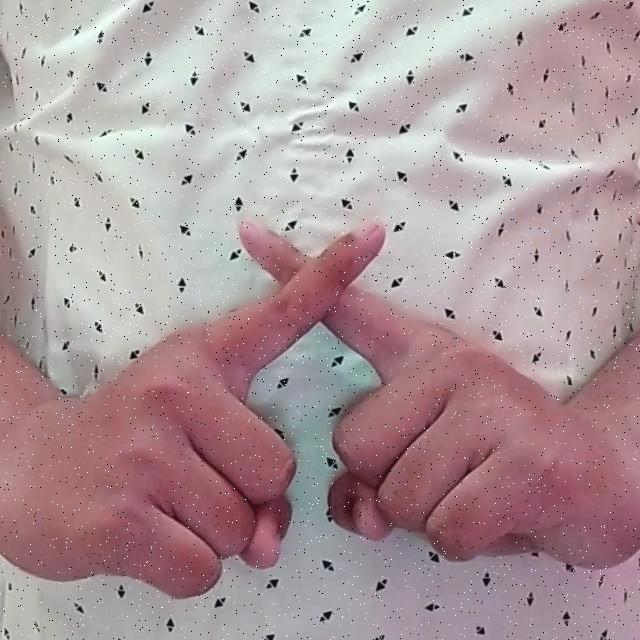X: (55, 166, 574, 599)
